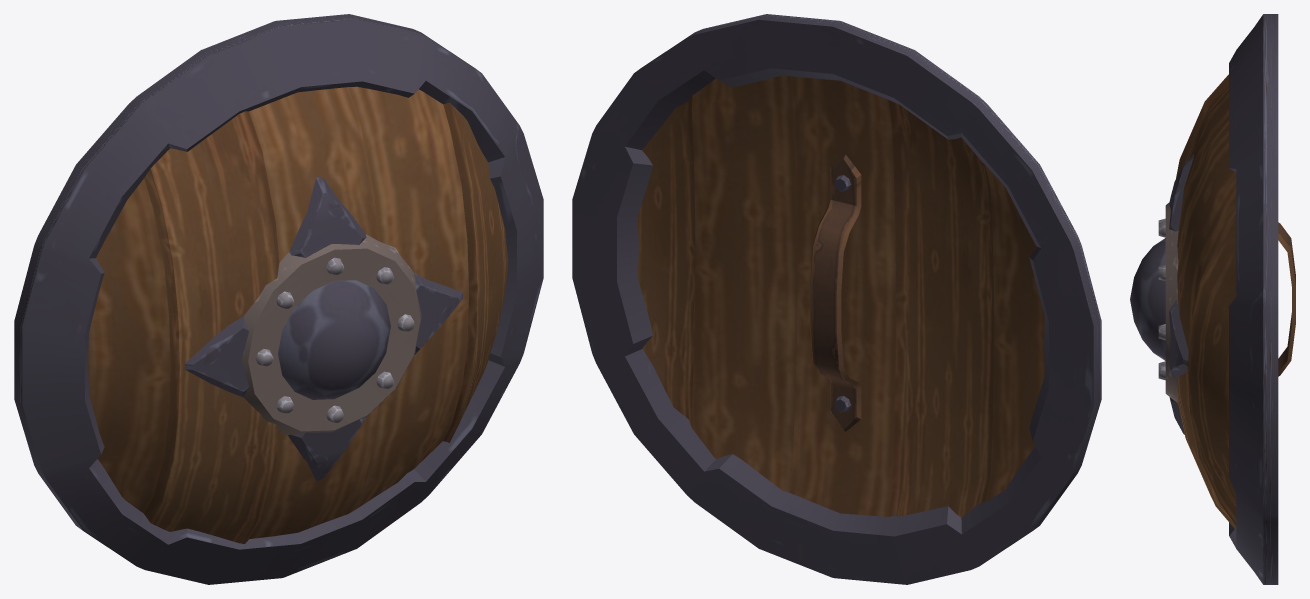
Rendered from Shield_Wooden.gltf.
3 renders of one model, left to right at view 1: azimuth 30°, elevation 25°; view 2: azimuth 150°, elevation 25°; view 3: azimuth 270°, elevation 25°, orthographic. The views are drawn at different scales.
Visible parts, largest first — view 1: Shield_Wooden; view 2: Shield_Wooden; view 3: Shield_Wooden.
Boxes of the visible parts, left/top/right/bottom form: Shield_Wooden: left=14, top=14, right=543, bottom=584; Shield_Wooden: left=572, top=14, right=1101, bottom=584; Shield_Wooden: left=1130, top=14, right=1295, bottom=584.
Bounding box in the file's own units: 0.6146 × 0.6209 × 0.1788.
3 materials, 3 textured.
